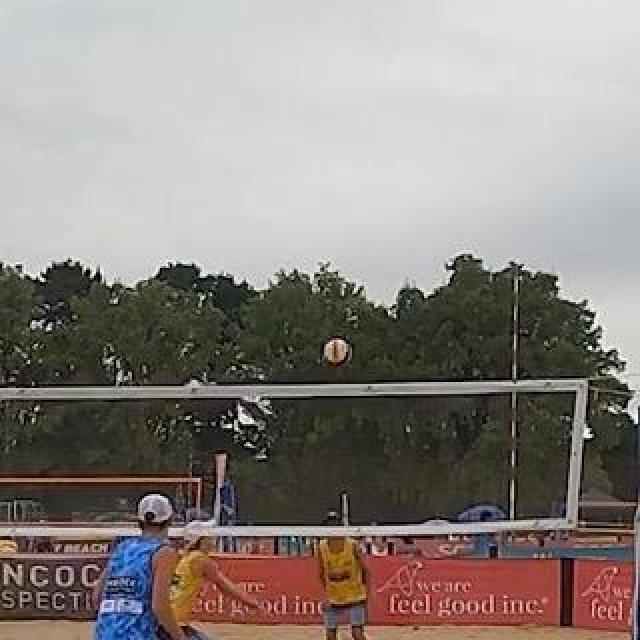volleyball: (324, 340, 348, 364)
